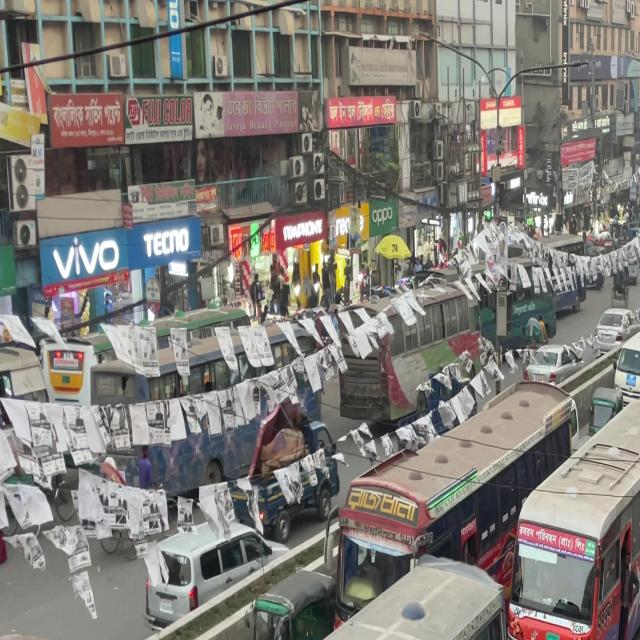bus: (329, 380, 582, 625), (49, 547, 514, 640), (505, 401, 640, 640), (485, 257, 588, 349), (2, 623, 148, 640)
car: (144, 520, 290, 629), (1, 476, 64, 570), (596, 310, 635, 344)
van: (247, 409, 346, 544)
